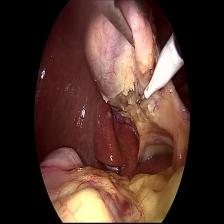Grasper: (96, 0, 136, 47)
Hook: (136, 35, 186, 108)
